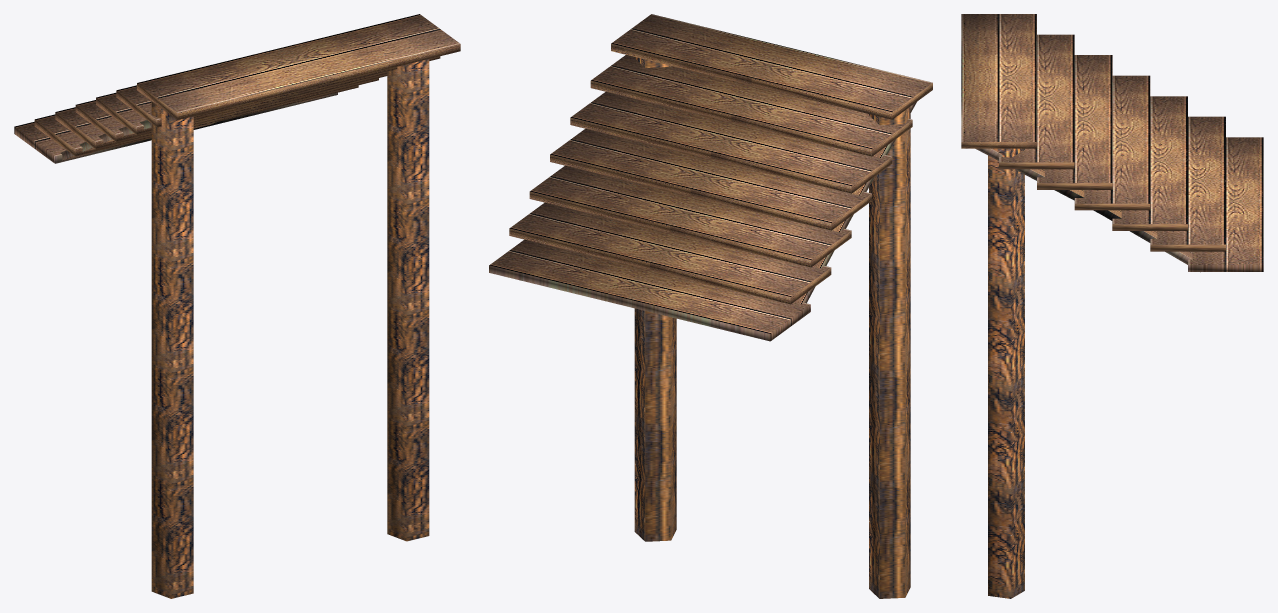
Rendered from dock_steps.fbx.
3 views of the same model, side by side, from view 1: azimuth 30°, elevation 25°; view 2: azimuth 150°, elevation 25°; view 3: azimuth 270°, elevation 25° (orthographic). The views are drawn at different scales.
Parts seen in each view (by area): view 1: dock_steps; view 2: dock_steps; view 3: dock_steps.
Part boxes in pixels (x1,y1,x2,y2): dock_steps: [14, 14, 460, 598]; dock_steps: [489, 14, 932, 598]; dock_steps: [961, 14, 1263, 598].
Size of the model in its own units: 400 by 673 by 400.
Materials: 1 (1 with a texture image).
